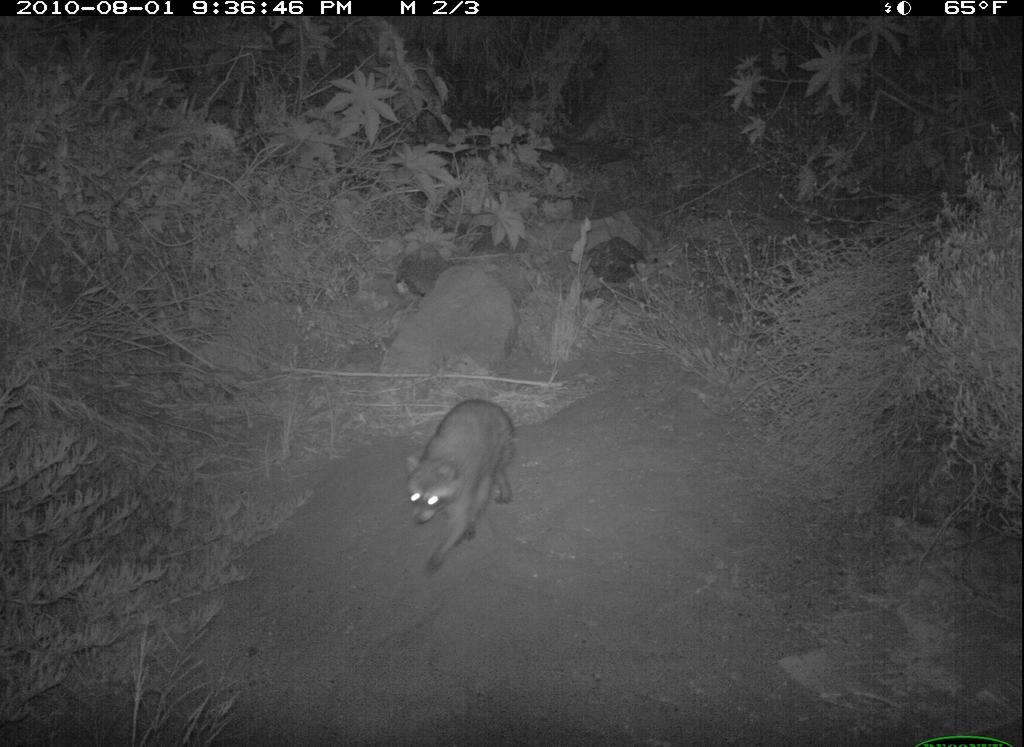raccoon: (387, 396, 530, 580)
